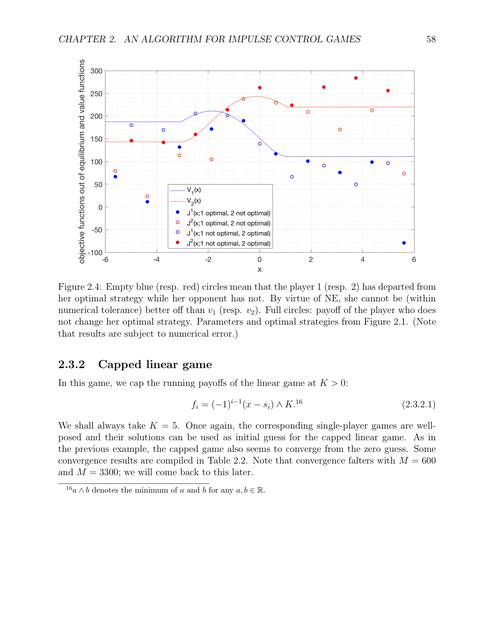box: (77, 59, 420, 273)
